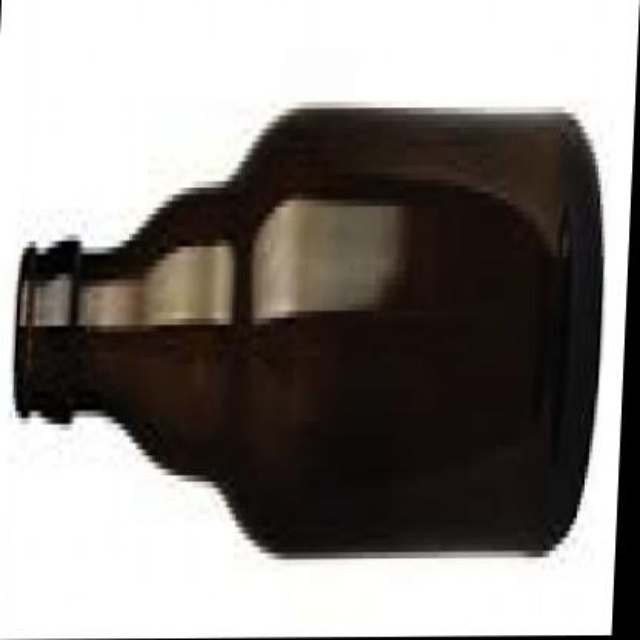trash: (15, 108, 600, 554)
